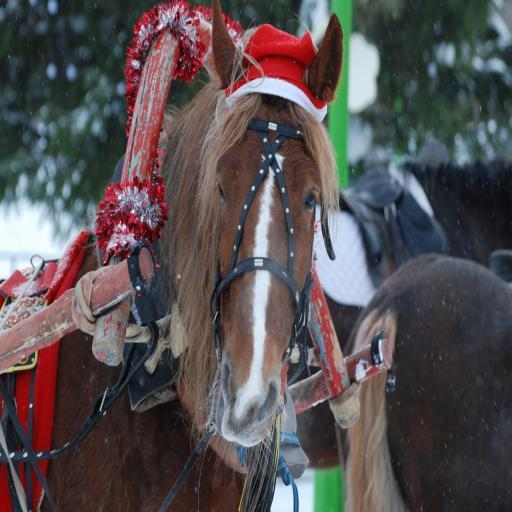horse: (0, 0, 345, 511), (280, 159, 512, 468), (343, 254, 512, 511)
